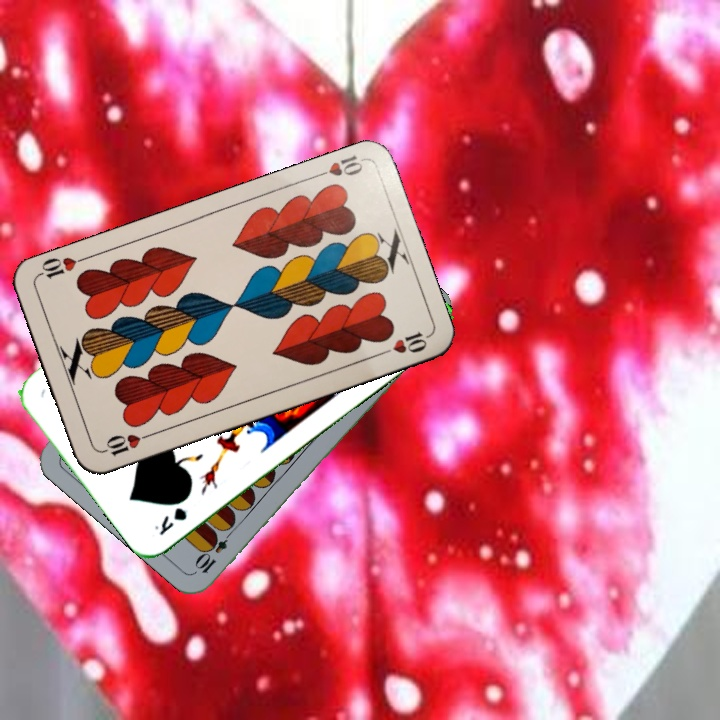E10: (192, 524, 237, 576)
GK: (150, 503, 190, 538)
H10: (98, 428, 156, 460), (309, 151, 367, 181)
